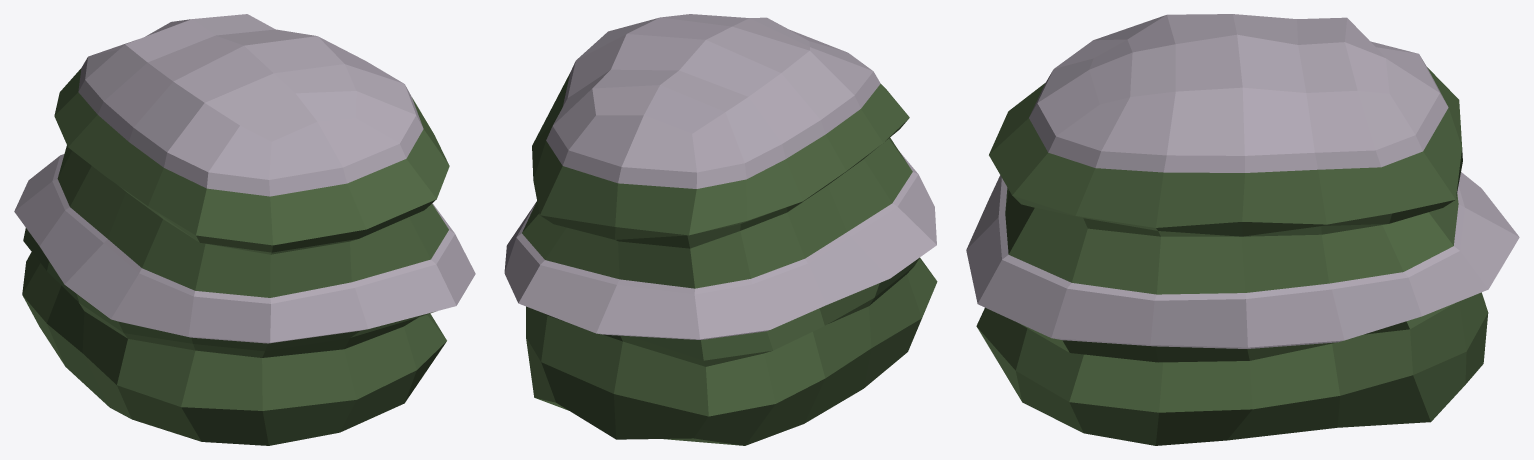
File: Bush_Snow_1.gltf
3 views of the same model, side by side, from view 1: azimuth 30°, elevation 25°; view 2: azimuth 150°, elevation 25°; view 3: azimuth 270°, elevation 25° (orthographic). The views are drawn at different scales.
Parts seen in each view (by area): view 1: Bush_Snow_1; view 2: Bush_Snow_1; view 3: Bush_Snow_1.
Part boxes in pixels (x1,y1,x2,y2): Bush_Snow_1: (14,14,475,445); Bush_Snow_1: (504,14,937,445); Bush_Snow_1: (966,14,1519,445).
Size of the model in its own units: 1.39 by 1.28 by 1.78.
